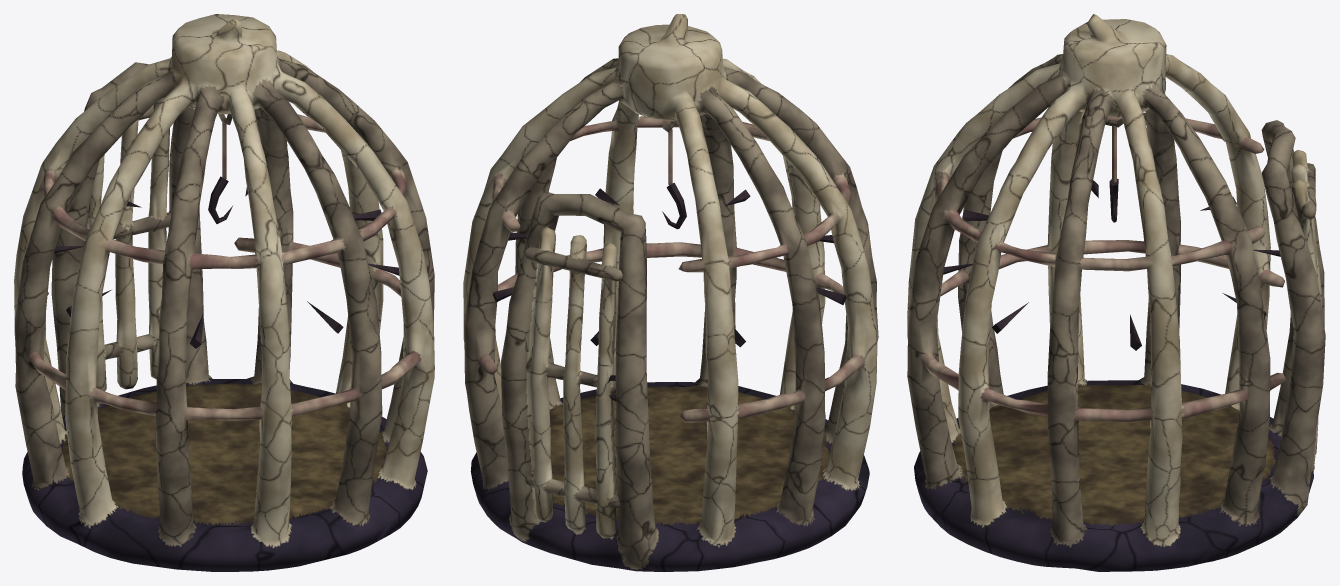
The model's file is jaula_prisioneros.fbx.
3 views of the same model, side by side, from view 1: azimuth 30°, elevation 25°; view 2: azimuth 150°, elevation 25°; view 3: azimuth 270°, elevation 25° (orthographic).
Visible parts, largest first — view 1: jaula, puerta; view 2: jaula, puerta; view 3: jaula, puerta.
Boxes of the visible parts, box(x1,y1,x2,y2) form: jaula: box(14, 14, 434, 571); puerta: box(84, 97, 171, 391); jaula: box(463, 14, 878, 571); puerta: box(523, 227, 622, 538); jaula: box(907, 14, 1325, 571); puerta: box(1291, 150, 1322, 472).
Bounding box in the file's own units: 4 × 5.01 × 4.
Materials: 1 (1 with a texture image).
